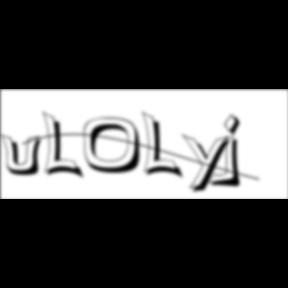L: (43, 110, 87, 182), (142, 110, 186, 182)
O: (84, 117, 148, 176)
j: (222, 113, 248, 191)
u: (0, 132, 48, 178)
y: (182, 132, 236, 196)
